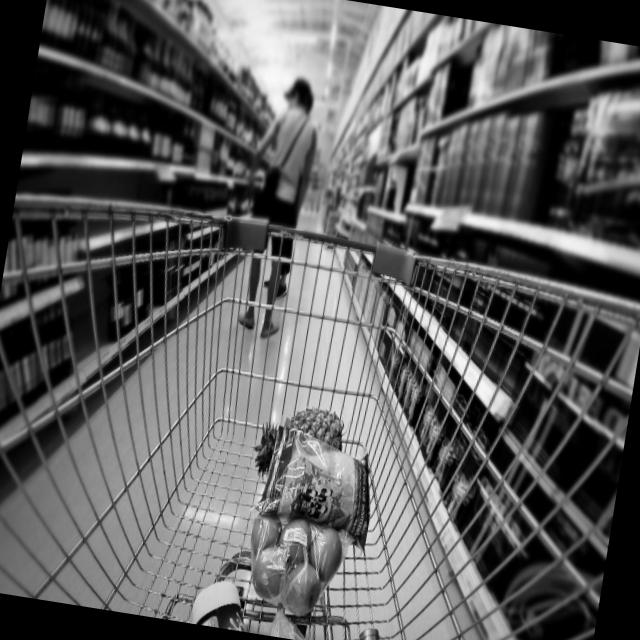dua: (247, 398, 351, 483)
sua: (187, 568, 254, 632)
tao: (238, 510, 346, 622)
